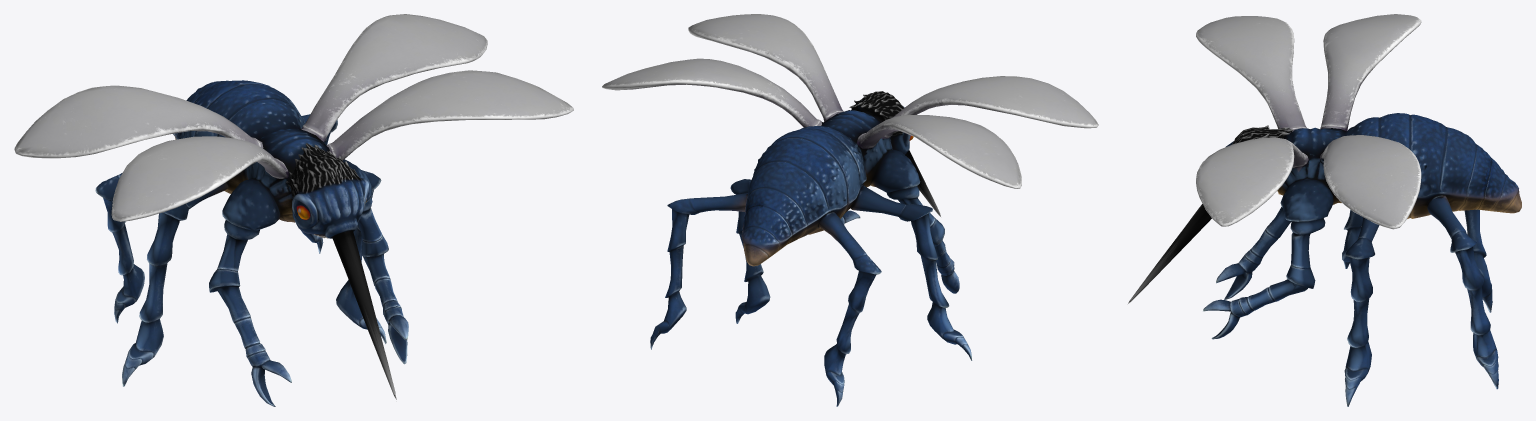
Rendered from MZ4250 - Chasme.glb.
3 views of the same model, side by side, from view 1: azimuth 30°, elevation 25°; view 2: azimuth 150°, elevation 25°; view 3: azimuth 270°, elevation 25° (orthographic). The views are drawn at different scales.
Parts seen in each view (by area): view 1: bug_low.001; view 2: bug_low.001; view 3: bug_low.001.
Boxes of the visible parts, x1,y1,x2,y2 form: bug_low.001: (14,14,573,406); bug_low.001: (602,14,1098,406); bug_low.001: (1128,14,1521,406).
Size of the model in its own units: 8.8 by 5.27 by 6.99.
1 material, 1 textured.
